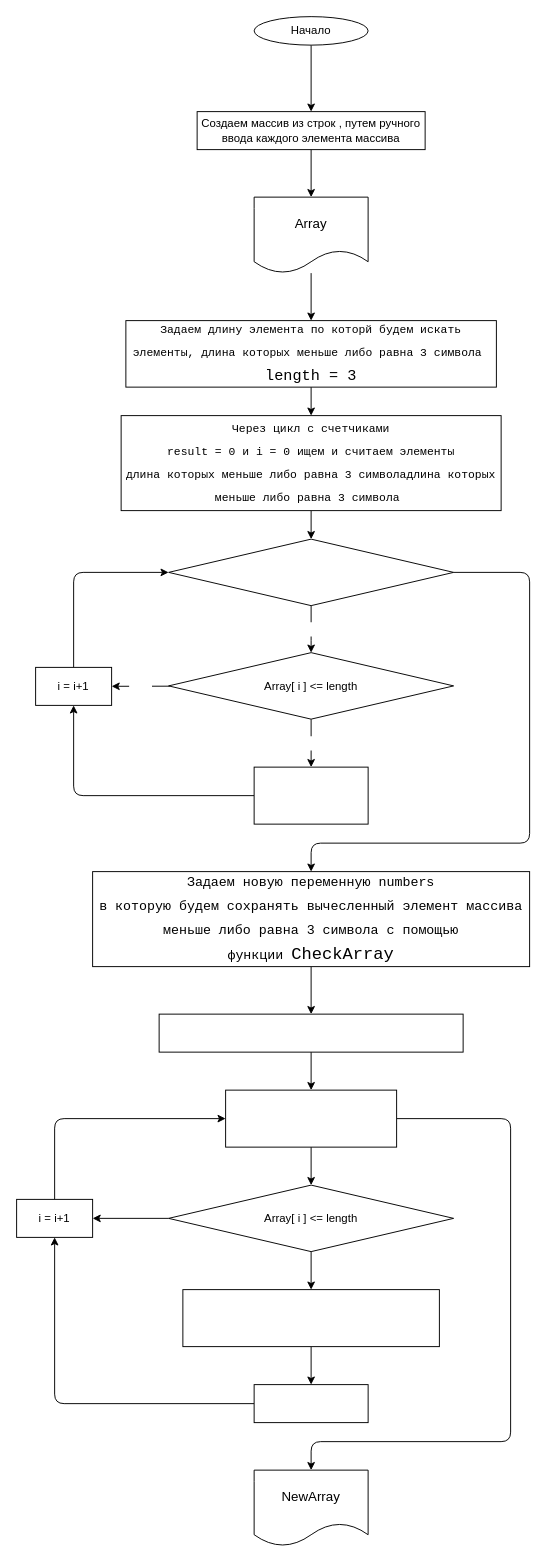
The diagram is 554 pixels wide and 1563 high, and some of its shapes have lost their labels. Here are the shapes that lost their labels. From the top down, the centre of each, then its label:
the point at 311,572: Условие пока i < длина массива Array
the point at 310,795: result = result +1
the point at 310,1032: Задаем новый массив строк , в который будем выводит найденые элементы.
the point at 311,1118: Через цикл с счетчиками temp = 0 и i = 0
the point at 310,1318: NewArray[temp] = array[i]
the point at 310,1403: temp = temp + 1
